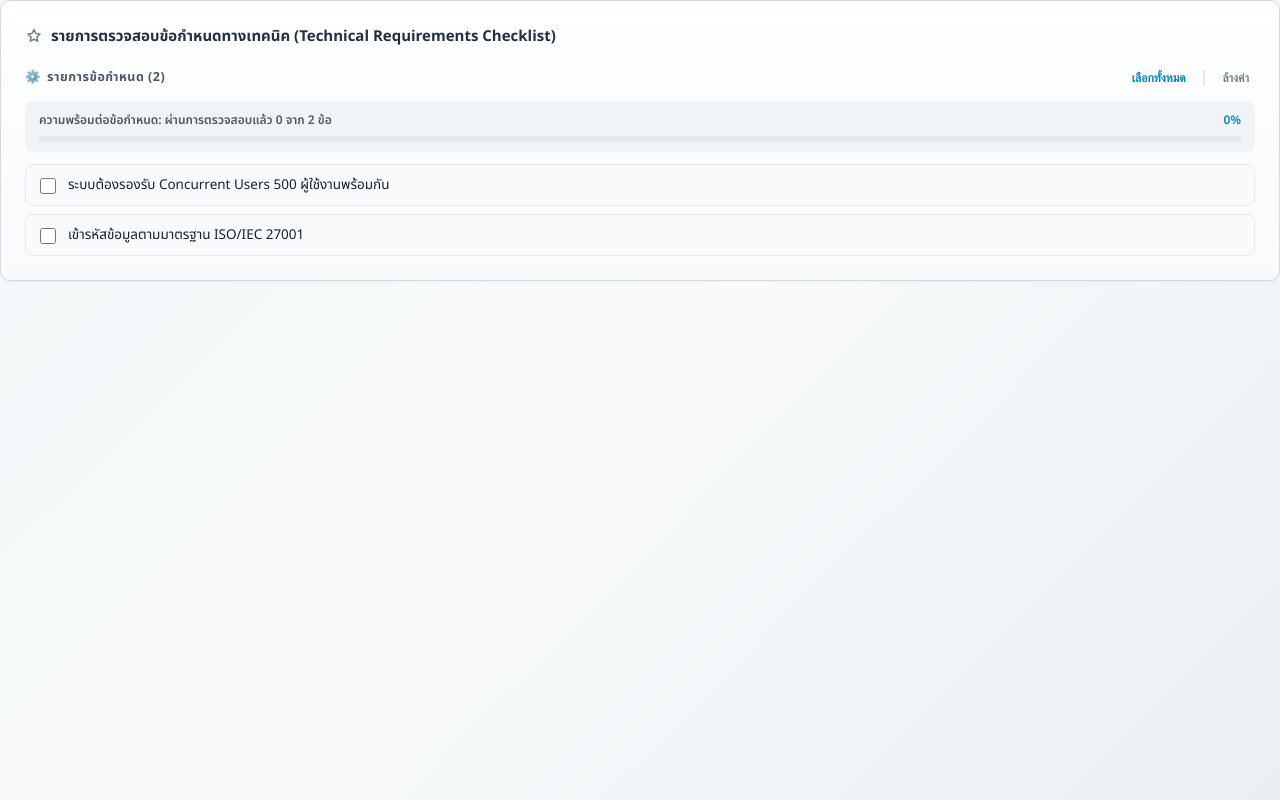
it: TechStackRequirements component › renders technical requirements and toggles checklist status
// Click to check the first requirement
Click the 1st checkbox at [48, 186], box [40,178,56,194]
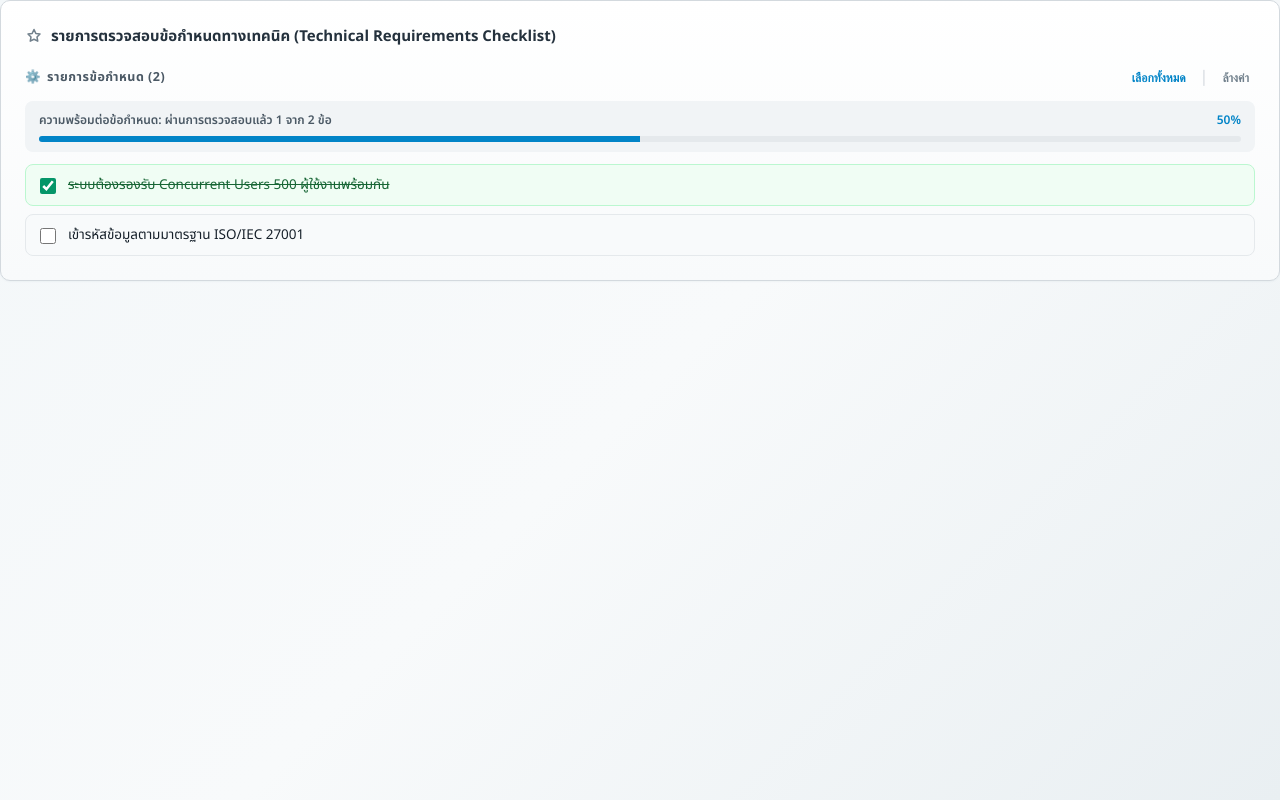
Check: the 1st checkbox is checked, box [40,178,56,194]
// Click "Clear All"
Click the button "ล้างค่า" at [1236, 78], box [1216,69,1255,87]
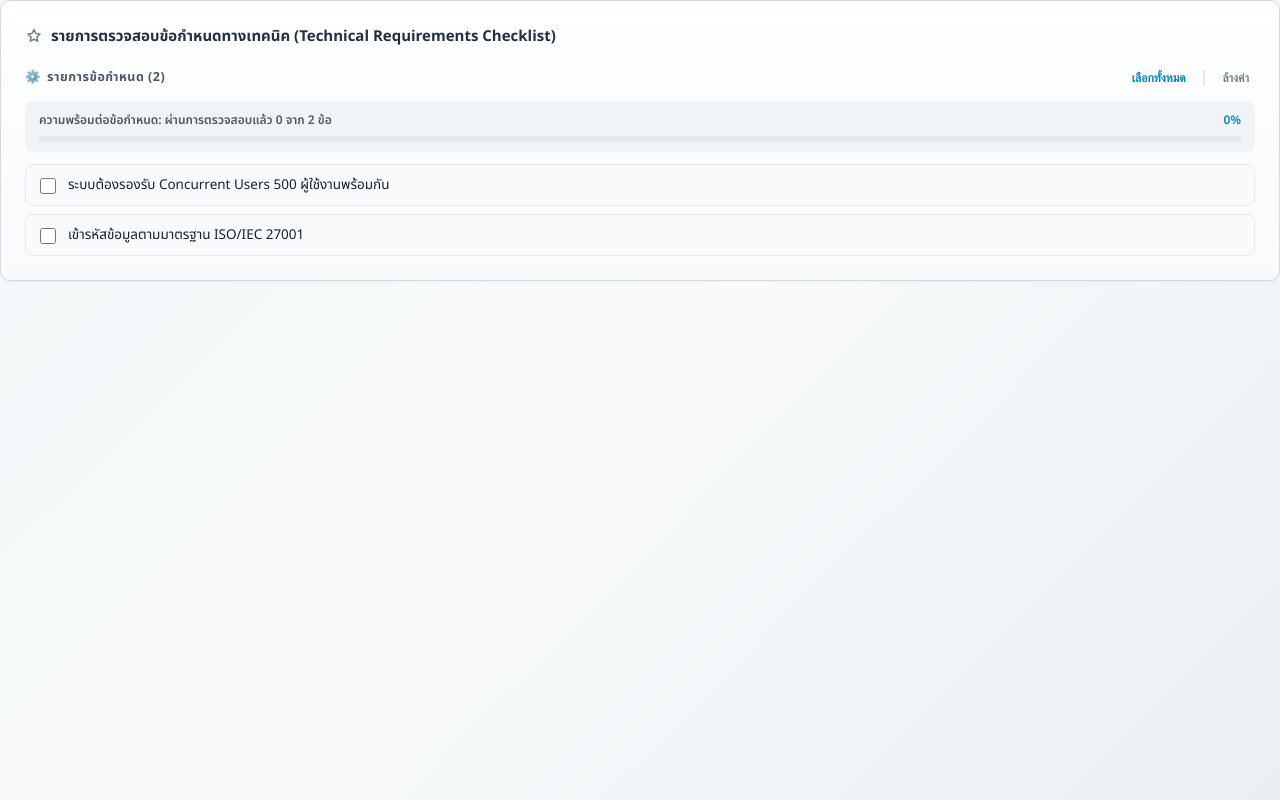
Check: the 1st checkbox is not checked, box [40,178,56,194]
// Click "Check All"
Click the button "เลือกทั้งหมด" at [1159, 78], box [1126,69,1192,87]
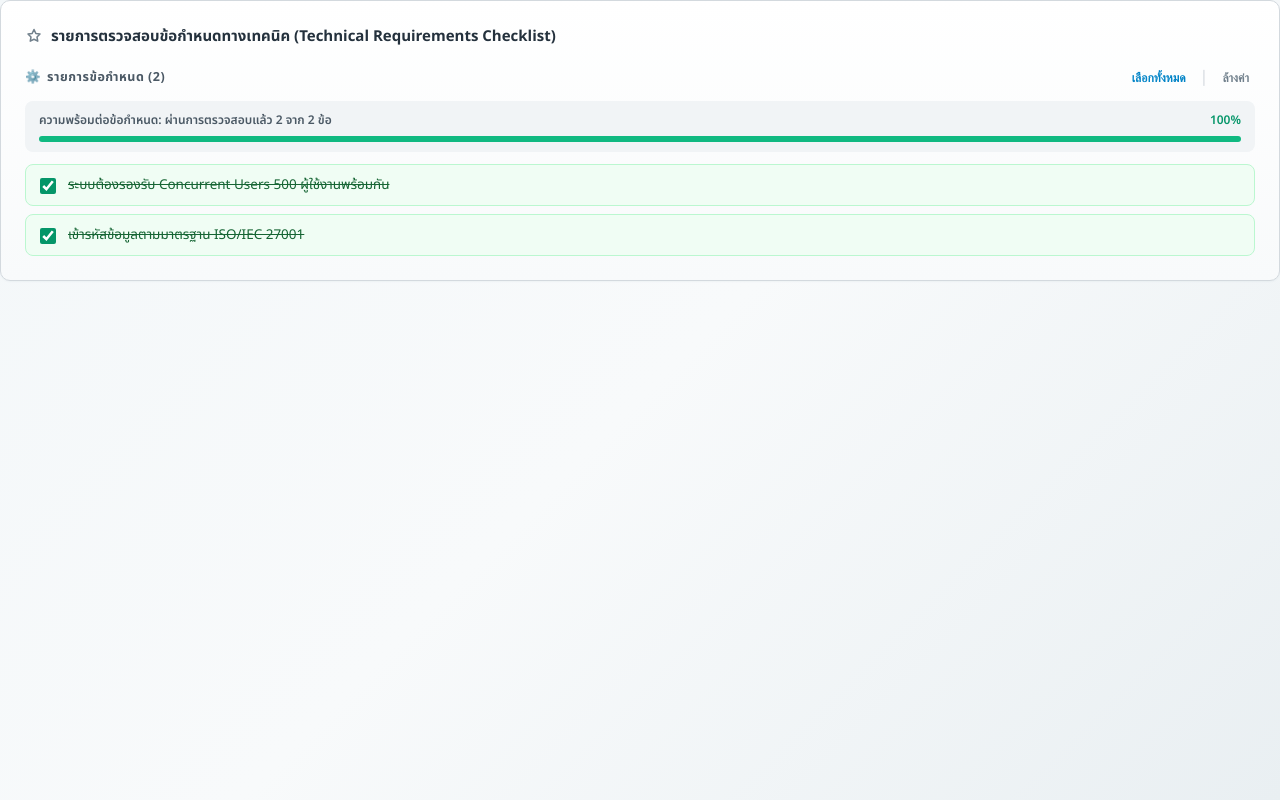
Check: the 1st checkbox is checked, box [40,178,56,194]
Check: the checkbox next to "เข้ารหัสข้อมูลตามมาตรฐาน ISO/IEC 27001" is checked, box [40,228,56,244]
